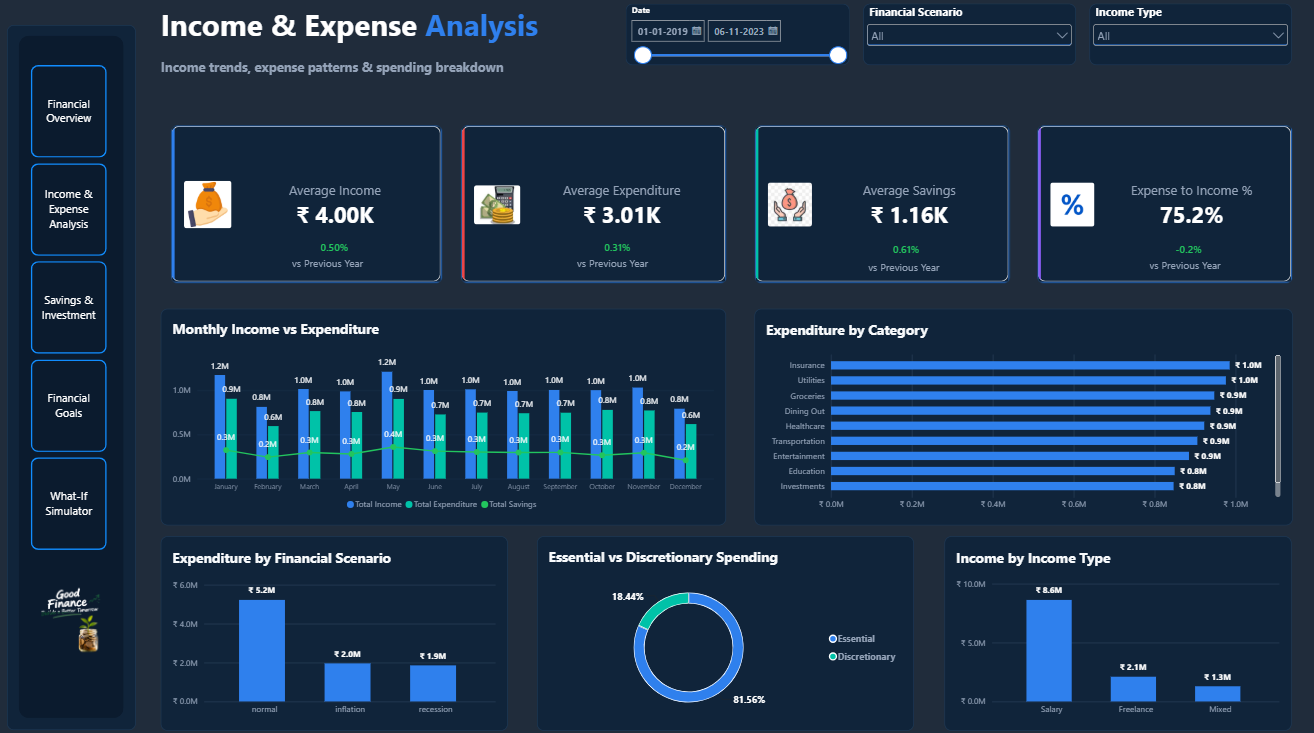

The page's visual inventory and layout, read from the dashboard file:
{"tool":"powerbi","page":{"name":"Income & Expense Analysis","canvas":[1920,1080],"ordinal":1},"visuals":[{"type":"shape","title":"Financial S","box":[21.7,43.4,186.4,1020.6],"z":0},{"type":"textbox","box":[244.5,13,558.3,60.6],"z":1000},{"type":"textbox","box":[244.3,72.4,501.3,56.1],"z":2000},{"type":"cardVisual","fields":{"Data":["_Measure.Average Income"]},"box":[258.8,188.2,393.9,229.4],"z":3000},{"type":"cardVisual","fields":{"Data":["_Measure.Average Expenditure"]},"box":[678.1,188.3,385.2,229.4],"z":4000},{"type":"cardVisual","fields":{"Data":["_Measure.Average Savings"]},"box":[1103,188.3,370.1,229.4],"z":5000},{"type":"cardVisual","fields":{"Data":["_Measure.Expense to Income %"]},"box":[1512.7,188.3,370.1,229.4],"z":6000},{"type":"slicer","fields":{"Values":["DateTable.Date"]},"box":[917.5,12.7,323.9,88.7],"z":7000},{"type":"slicer","fields":{"Values":["financial_data.financial_scenario"]},"box":[1261.3,12.7,307.6,88.7],"z":8000},{"type":"slicer","fields":{"Values":["financial_data.income_type"]},"box":[1588.9,12.7,293.2,88.7],"z":9000},{"type":"lineClusteredColumnComboChart","title":"Monthly Income vs Expenditure","fields":{"Y":["_Measure.Total Income","_Measure.Total Expenditure"],"Category":["DateTable.Month"],"Y2":["_Measure.Total Savings"]},"box":[244.5,454.5,818,313.8],"z":10000},{"type":"clusteredBarChart","title":" Expenditure by Category","fields":{"Category":["financial_data.category"],"Y":["_Measure.Total Expenditure"]},"box":[1103.7,454.5,779.1,313.8],"z":11000},{"type":"cardVisual","fields":{"Data":["_Measure.Average Income Growth %"]},"box":[458.8,352.8,73.6,26],"z":12000},{"type":"cardVisual","fields":{"Data":["_Measure.Average Savings Growth %"]},"box":[1287.7,354.9,73.6,26],"z":13000},{"type":"cardVisual","fields":{"Data":["_Measure.Expense Ratio Change %"]},"box":[1696.7,354.9,73.6,26],"z":14000},{"type":"textbox","box":[1675,380.9,121.2,28.1],"z":15000},{"type":"textbox","box":[1268.2,383.1,110.4,27.1],"z":16000},{"type":"textbox","box":[435,378.7,121.2,28.1],"z":17000},{"type":"textbox","box":[846.2,378.7,121.2,28.1],"z":18000},{"type":"cardVisual","fields":{"Data":["_Measure.Average Expenditure Growth %"]},"box":[870,352.8,73.6,26],"z":19000},{"type":"clusteredColumnChart","title":"Expenditure by Financial Scenario","fields":{"Y":["_Measure.Total Expenditure"],"Category":["financial_data.financial_scenario"]},"box":[244.5,783.4,502.1,281.3],"z":20000},{"type":"clusteredColumnChart","title":"Income by Income Type","fields":{"Category":["financial_data.income_type"],"Y":["_Measure.Total Income"]},"box":[1378.6,783.4,502.1,281.3],"z":21000},{"type":"pageNavigator","box":[56.3,101.7,110.4,703.3],"z":22000},{"type":"donutChart","title":"Essential vs Discretionary Spending","fields":{"Category":["Spending Type.Type"],"Y":["_Measure.Total Spending"]},"box":[789.9,783.4,545.4,281.3],"z":23000},{"type":"image","box":[56.3,826.7,110.4,158],"z":23001}]}

Visuals, with their boxes in screenshot pixels (x1, y1, x2, y2), scaled from the page's 1920x1080 canvas onto the 1314x733 screenshot:
"Financial S" shape: (15,29,142,722)
textbox: (167,9,549,50)
textbox: (167,49,510,87)
cardVisual - _Measure.Average Income: (177,128,447,283)
cardVisual - _Measure.Average Expenditure: (464,128,728,283)
cardVisual - _Measure.Average Savings: (755,128,1008,283)
cardVisual - _Measure.Expense to Income %: (1035,128,1289,283)
slicer - DateTable.Date: (628,9,850,69)
slicer - financial_data.financial_scenario: (863,9,1074,69)
slicer - financial_data.income_type: (1087,9,1288,69)
"Monthly Income vs Expenditure" lineClusteredColumnComboChart: (167,308,727,521)
" Expenditure by Category" clusteredBarChart: (755,308,1289,521)
cardVisual - _Measure.Average Income Growth %: (314,239,364,257)
cardVisual - _Measure.Average Savings Growth %: (881,241,932,259)
cardVisual - _Measure.Expense Ratio Change %: (1161,241,1212,259)
textbox: (1146,259,1229,278)
textbox: (868,260,943,278)
textbox: (298,257,381,276)
textbox: (579,257,662,276)
cardVisual - _Measure.Average Expenditure Growth %: (595,239,646,257)
"Expenditure by Financial Scenario" clusteredColumnChart: (167,532,511,723)
"Income by Income Type" clusteredColumnChart: (943,532,1287,723)
pageNavigator: (39,69,114,546)
"Essential vs Discretionary Spending" donutChart: (541,532,914,723)
image: (39,561,114,668)
